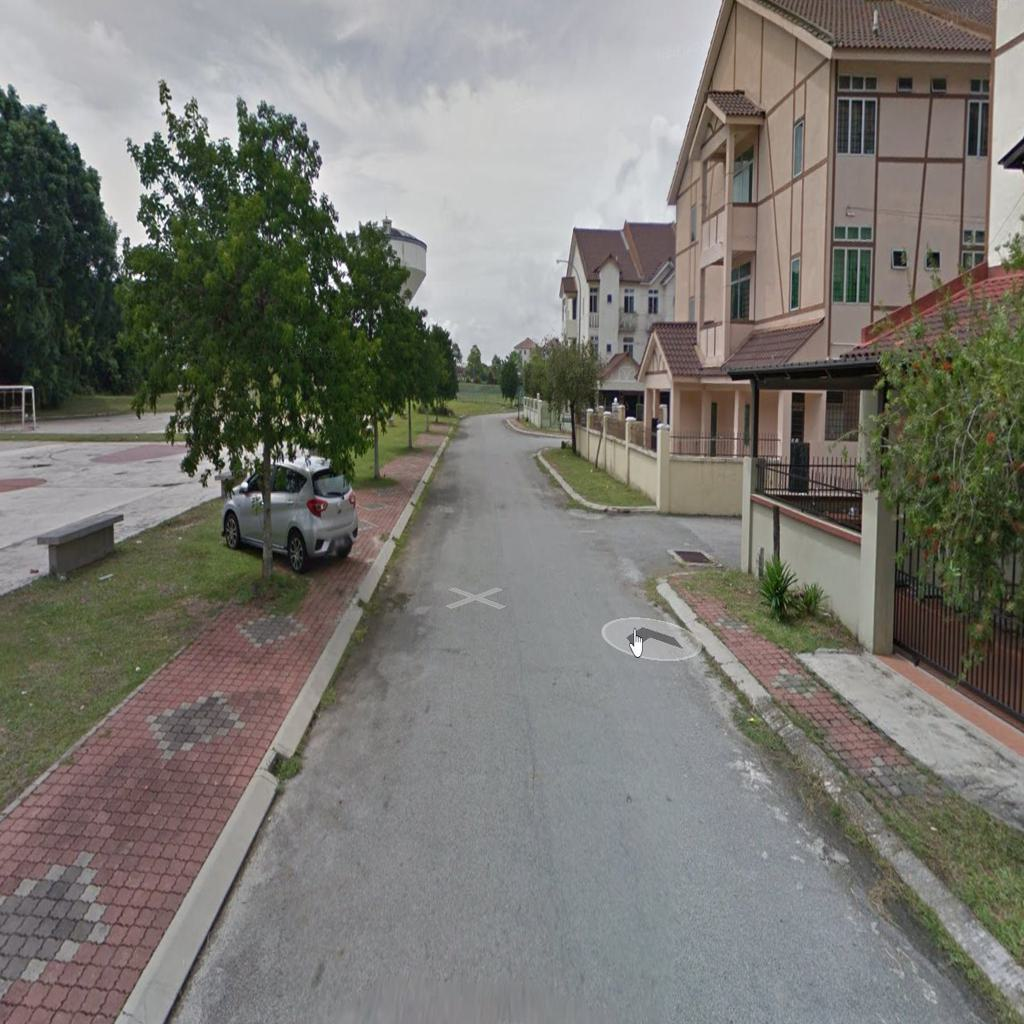Junction: (553, 482, 747, 604)
